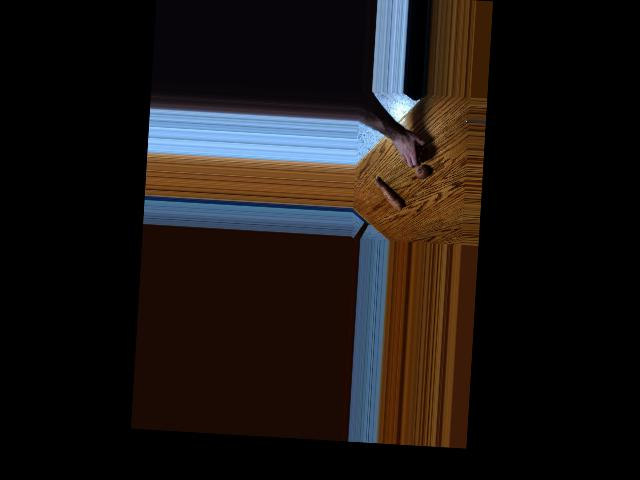onion: (410, 144, 427, 162)
